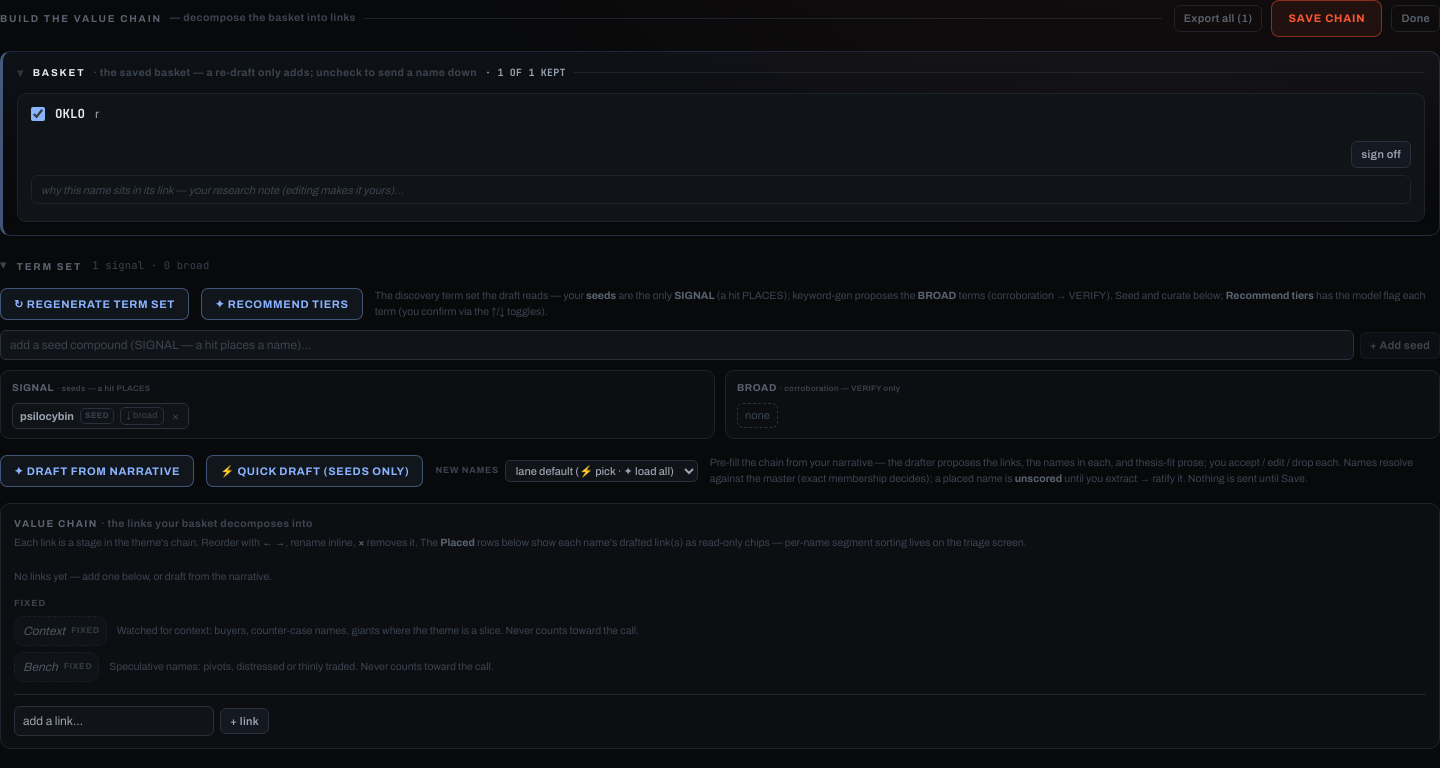
Test case: ChainEditor — pick-mode routing (the load-mode choice) › the ⚡ quick lane defaults pick-mode ON (the operator-decided pairing)
Click the button "⚡ Quick draft (seeds only)".
click(315, 471)  # box [206, 455, 423, 487]
(page scrolled)
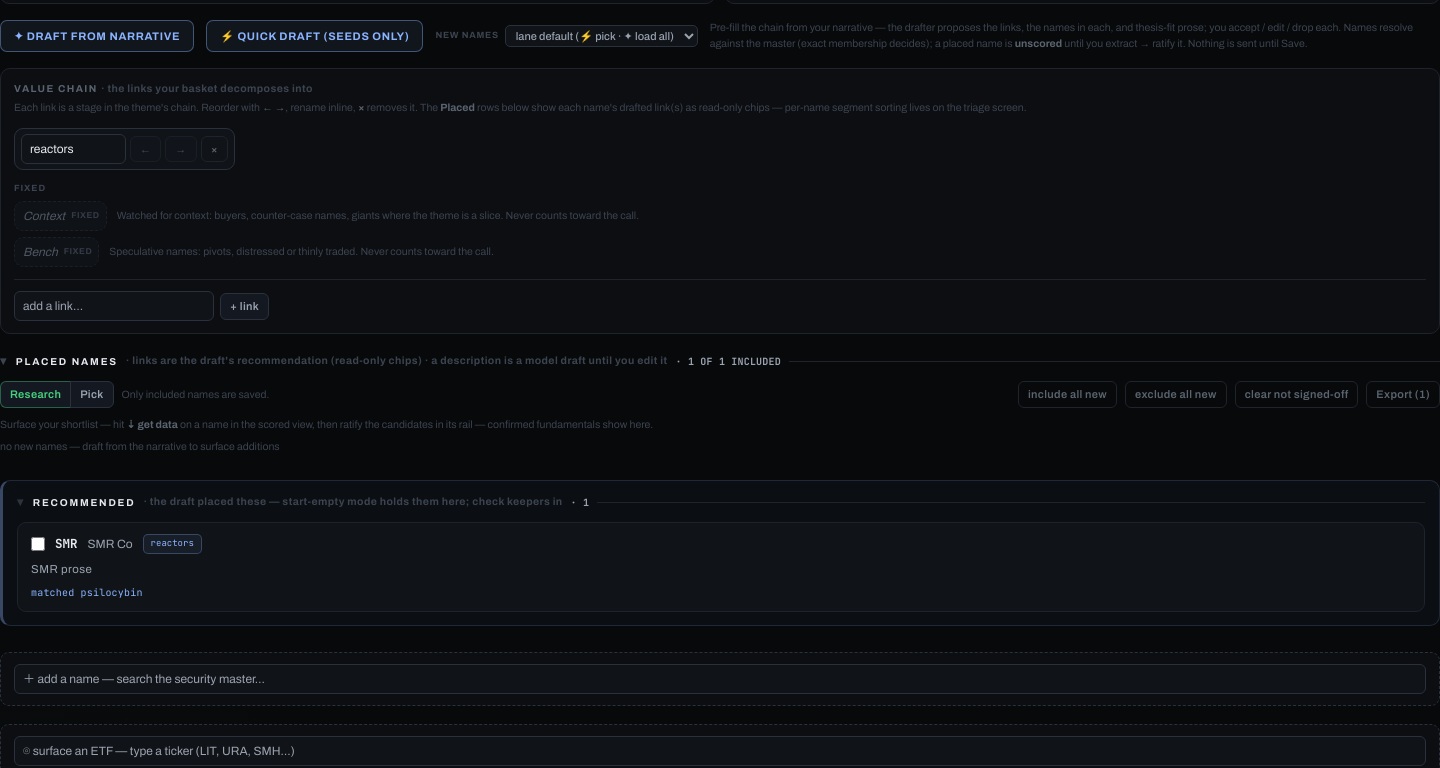
Expected: the checkbox named "pick SMR" is shown, [31, 537, 45, 551]
